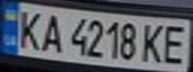1: (103, 18, 121, 60)
2: (84, 16, 106, 58)
4: (63, 15, 90, 56)
8: (118, 19, 142, 61)
A: (36, 10, 66, 53)
E: (157, 21, 193, 65)
K: (12, 7, 45, 51), (139, 20, 169, 64)
